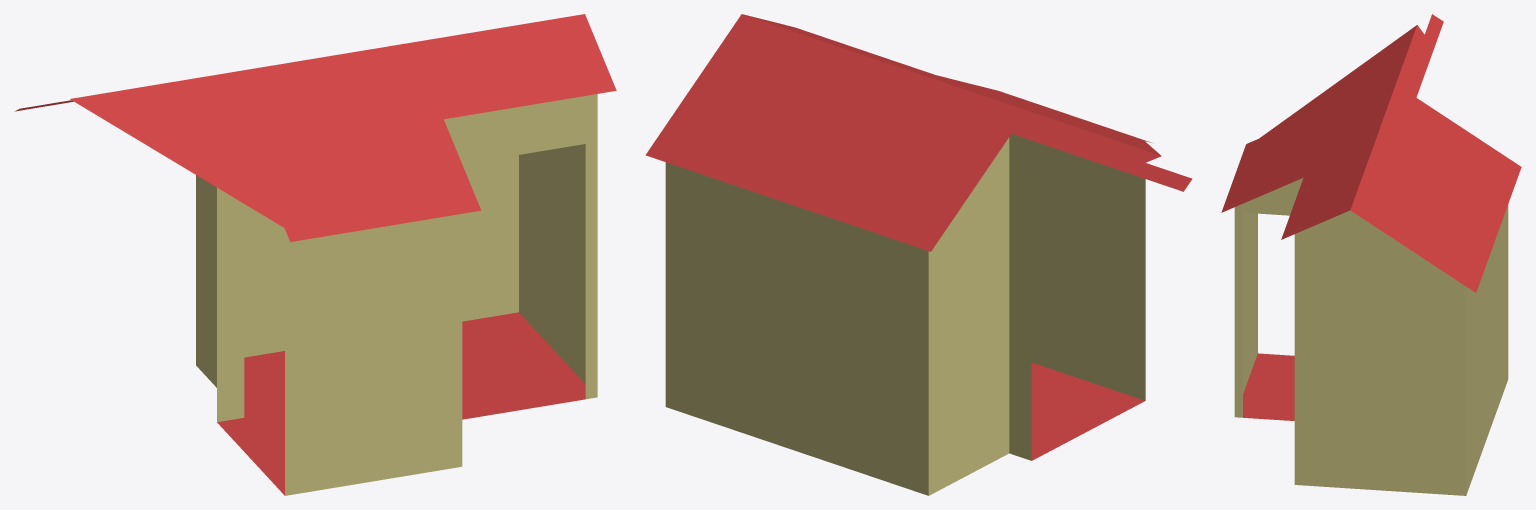
3 renders of one model, left to right at view 1: azimuth 30°, elevation 25°; view 2: azimuth 150°, elevation 25°; view 3: azimuth 270°, elevation 25°, orthographic. The views are drawn at different scales.
Size of the model in its own units: 20.95 by 12.68 by 13.19.
